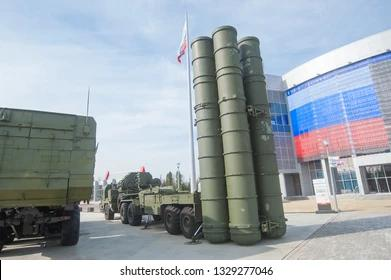MIL_SAM_TEL: (101, 27, 290, 245)
